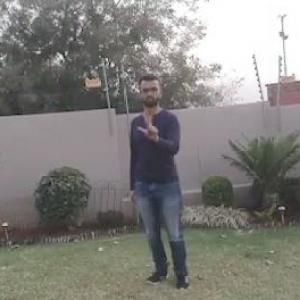land_hand: (135, 109, 163, 142)
